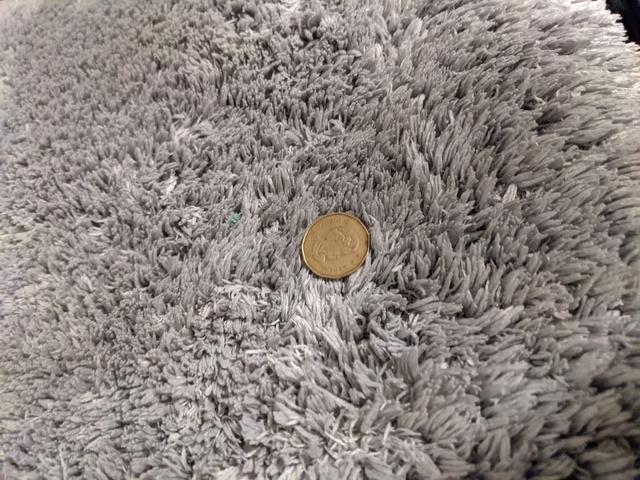loonie: (288, 205, 377, 289)
